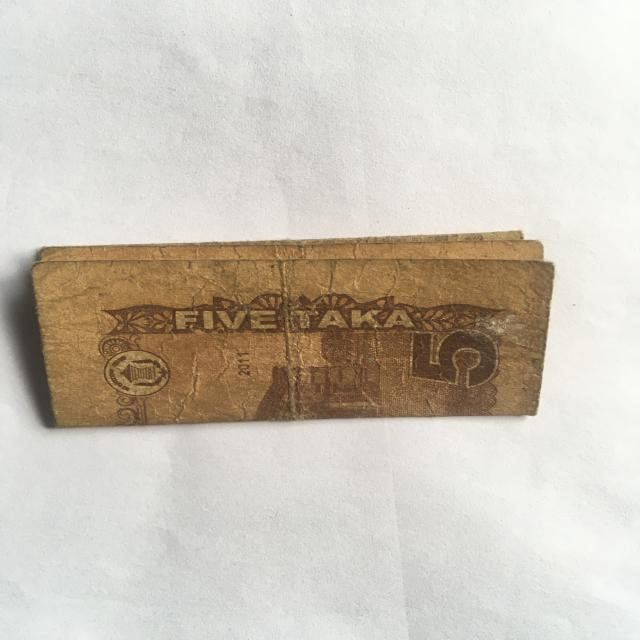Taka: (14, 228, 556, 429)
